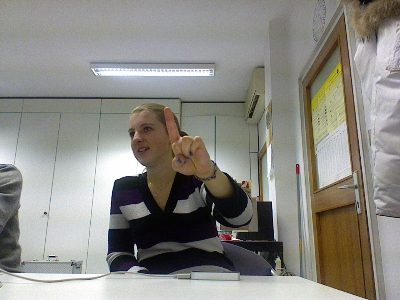食指: (162, 106, 211, 176)
